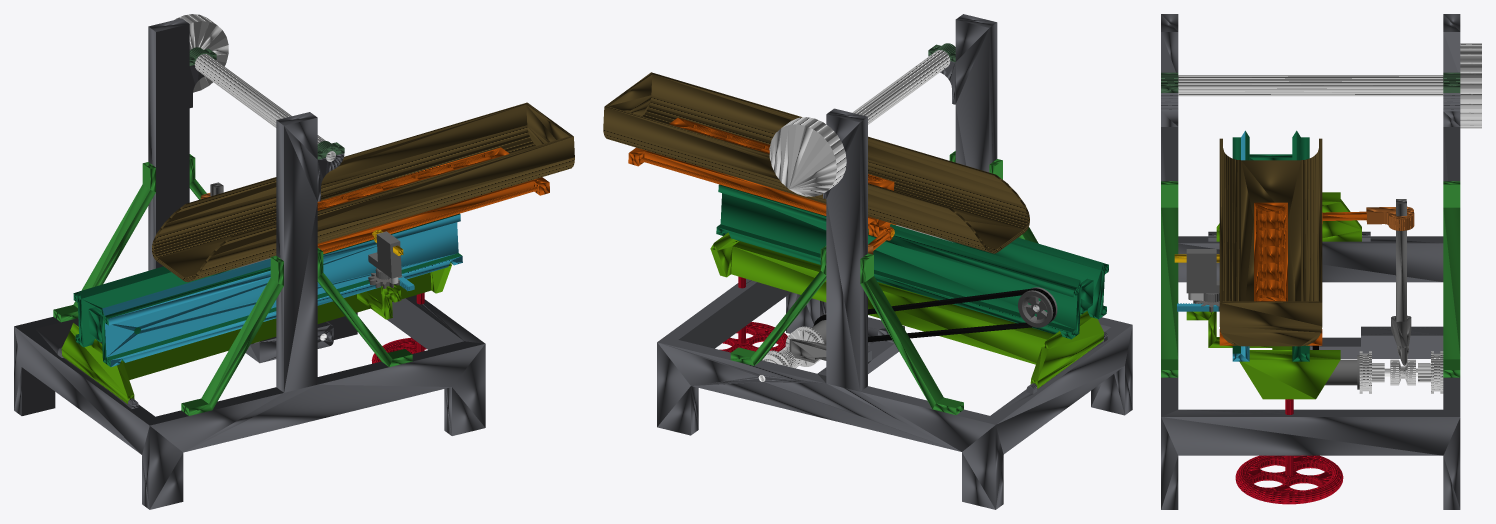
The model's file is Rectificadora Plana GLTF.gltf.
The picture shows the model from 3 angles, left to right: view 1: azimuth 30°, elevation 25°; view 2: azimuth 150°, elevation 25°; view 3: azimuth 270°, elevation 25°; orthographic projection. The views are drawn at different scales.
Visible parts, largest first — view 1: Cortar_Extruir9, Cortar_Extruir2.001, Cortar_Extruir1.005, Saliente_Extruir6, Cortar_Extruir5, Saliente_Extruir4, Saliente_Extruir1.002, Cortar_Extruir2, Saliente_Extruir1.001, Cortar_Extruir1.002, Saliente_Extruir1.008, Cortar_Extruir2.003 (+1 smaller); view 2: Cortar_Extruir9, Cortar_Extruir2.001, Cortar_Extruir1.006, Saliente_Extruir6, Saliente_Extruir4, Cortar_Extruir5, Saliente_Extruir1.001, Cortar_Extruir1.002, Barrer1, Saliente_Extruir1, MatrizC1, Redondeo2.001 (+1 smaller); view 3: Cortar_Extruir9, Cortar_Extruir2.001, Saliente_Extruir4, Saliente_Extruir6, Redondeo2.001, Cortar_Extruir5, Saliente_Extruir1, Saliente_Extruir1.008, Cortar_Extruir2.003, Saliente_Extruir2, Redondeo1, Cortar_Extruir1 (+9 smaller).
Part boxes in pixels (bbox=[...]): Cortar_Extruir9: bbox=[14, 18, 485, 509]; Cortar_Extruir2.001: bbox=[152, 102, 574, 282]; Cortar_Extruir1.005: bbox=[102, 214, 462, 366]; Saliente_Extruir6: bbox=[61, 262, 451, 403]; Cortar_Extruir5: bbox=[317, 147, 549, 253]; Saliente_Extruir4: bbox=[174, 14, 335, 161]; Saliente_Extruir1.002: bbox=[181, 255, 283, 415]; Cortar_Extruir2: bbox=[73, 266, 239, 347]; Saliente_Extruir1.001: bbox=[53, 162, 155, 322]; Cortar_Extruir1.002: bbox=[100, 213, 461, 366]; Saliente_Extruir1.008: bbox=[317, 248, 412, 366]; Cortar_Extruir2.003: bbox=[368, 231, 401, 278]; Cortar_Extruir9: bbox=[657, 14, 1132, 509]; Cortar_Extruir2.001: bbox=[603, 72, 1029, 253]; Cortar_Extruir1.006: bbox=[716, 184, 1079, 339]; Saliente_Extruir6: bbox=[710, 232, 1103, 388]; Saliente_Extruir4: bbox=[769, 50, 950, 196]; Cortar_Extruir5: bbox=[628, 117, 895, 236]; Saliente_Extruir1.001: bbox=[860, 253, 963, 414]; Cortar_Extruir1.002: bbox=[942, 237, 1108, 319]; Barrer1: bbox=[813, 288, 1055, 342]; Saliente_Extruir1: bbox=[730, 245, 826, 365]; MatrizC1: bbox=[1018, 287, 1057, 327]; Redondeo2.001: bbox=[719, 276, 787, 352]; Cortar_Extruir9: bbox=[1161, 14, 1460, 509]; Cortar_Extruir2.001: bbox=[1219, 138, 1322, 346]; Saliente_Extruir4: bbox=[1178, 43, 1481, 128]; Saliente_Extruir6: bbox=[1186, 192, 1361, 399]; Redondeo2.001: bbox=[1235, 399, 1343, 504]; Cortar_Extruir5: bbox=[1219, 202, 1322, 345]; Saliente_Extruir1: bbox=[1443, 181, 1460, 377]; Saliente_Extruir1.008: bbox=[1161, 181, 1178, 377]; Cortar_Extruir2.003: bbox=[1186, 249, 1219, 293]; Saliente_Extruir2: bbox=[1396, 199, 1406, 321]; Redondeo1: bbox=[1366, 206, 1414, 230]; Cortar_Extruir1: bbox=[1359, 351, 1384, 393].
Bounding box in the file's own units: 344 × 250 × 188.
